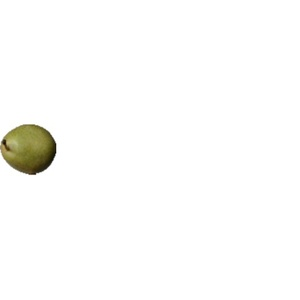pera: (1, 124, 57, 176)
